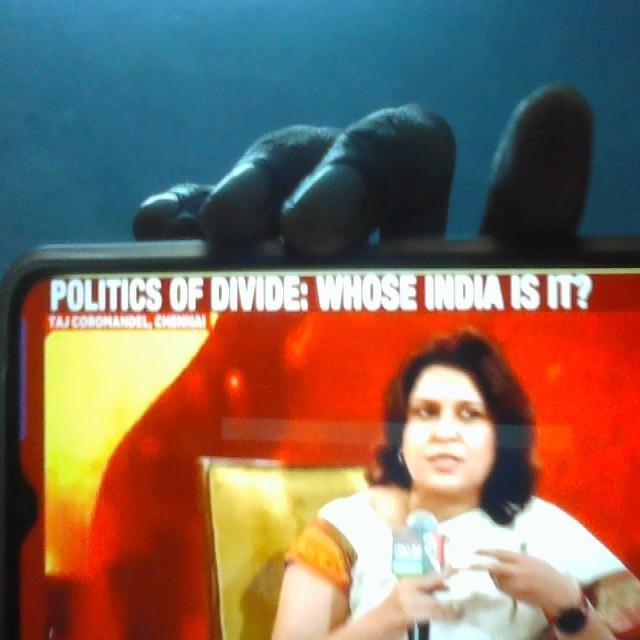fake: (403, 318, 502, 506)
